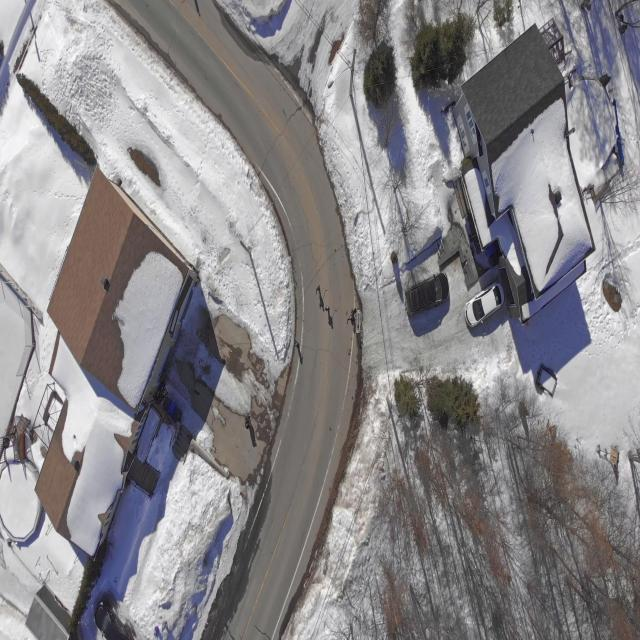Car: (94, 606, 127, 639), (464, 293, 504, 319), (404, 283, 447, 306)
